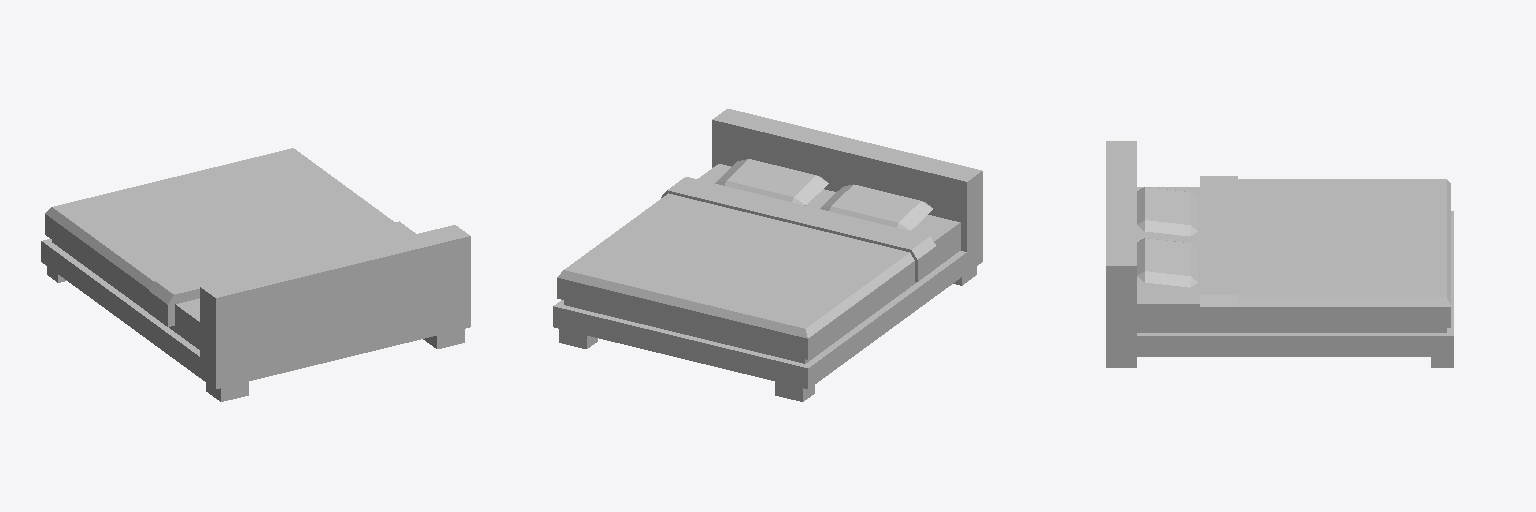
Rendered from bedDouble.obj.
3 views of the same model, side by side, from view 1: azimuth 30°, elevation 25°; view 2: azimuth 150°, elevation 25°; view 3: azimuth 270°, elevation 25° (orthographic).
Visible parts, largest first — view 1: bedDouble, cover; view 2: cover, bedDouble, pillowRight, pillowLeft; view 3: cover, bedDouble, pillowLeft, pillowRight.
Boxes of the visible parts, <box> form: bedDouble: <box>41,225,470,401</box>; cover: <box>45,148,415,326</box>; cover: <box>557,177,935,359</box>; bedDouble: <box>553,109,982,401</box>; pillowRight: <box>820,184,932,230</box>; pillowLeft: <box>715,159,828,205</box>; cover: <box>1200,176,1450,328</box>; bedDouble: <box>1106,141,1453,367</box>; pillowLeft: <box>1137,238,1197,287</box>; pillowRight: <box>1137,187,1197,236</box>.
Bounding box in the file's own units: 0.956 × 0.375 × 1.12.